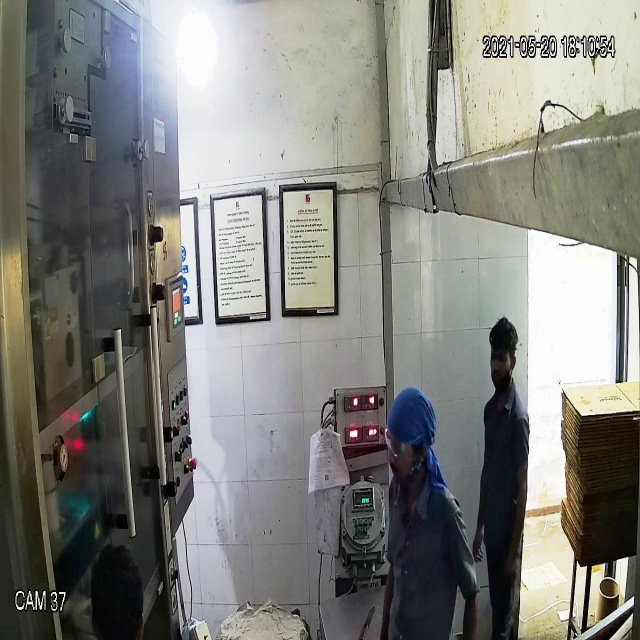Gafas: (380, 423, 425, 457)
Sin_gafas: (486, 347, 514, 371)
